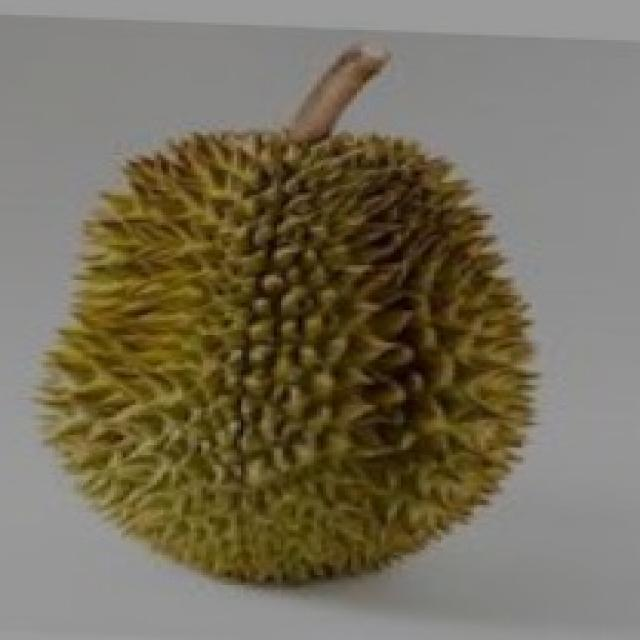fruit: (191, 230, 603, 628), (3, 273, 391, 625)
